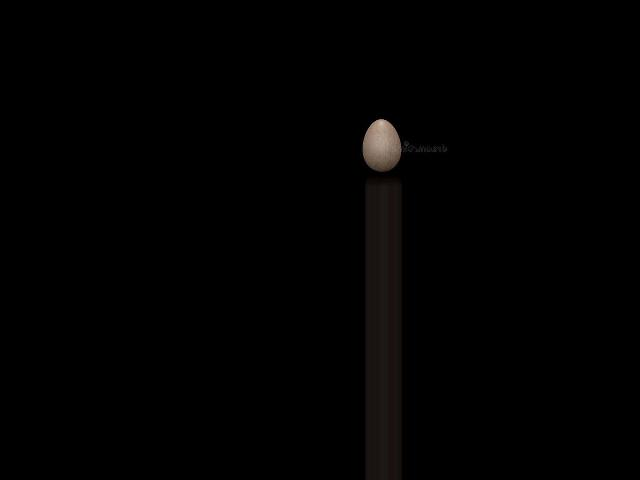egg: (362, 119, 400, 172)
